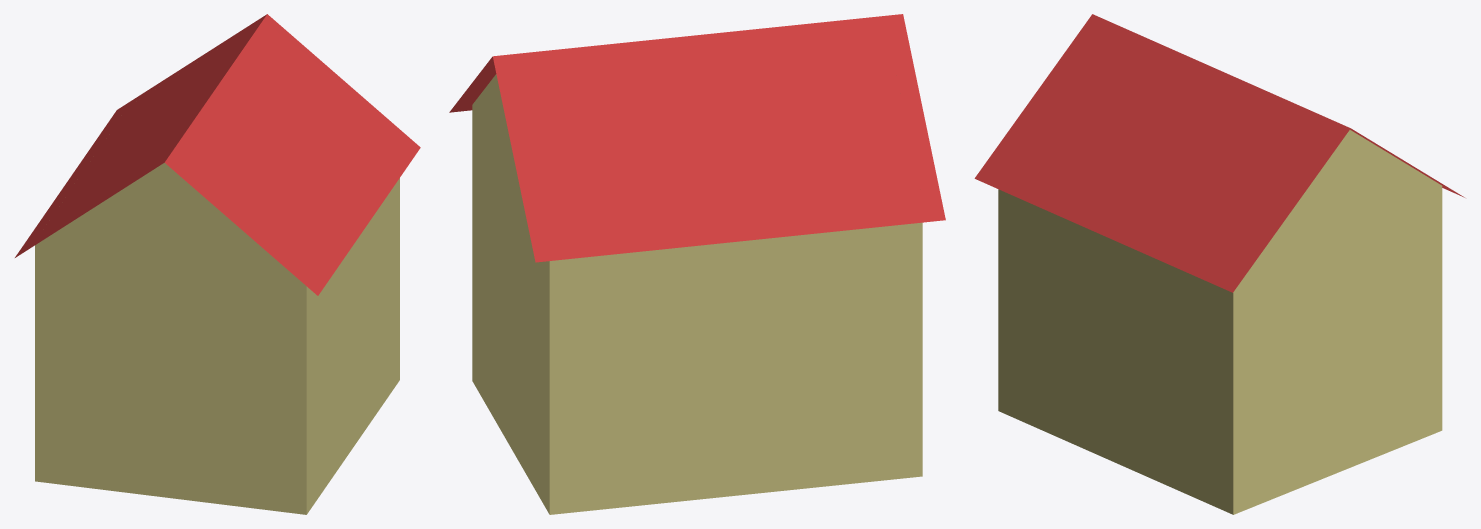
3 views of the same model, side by side, from view 1: azimuth 30°, elevation 25°; view 2: azimuth 150°, elevation 25°; view 3: azimuth 270°, elevation 25° (orthographic). The views are drawn at different scales.
Size of the model in its own units: 14.51 by 14.46 by 11.32.
